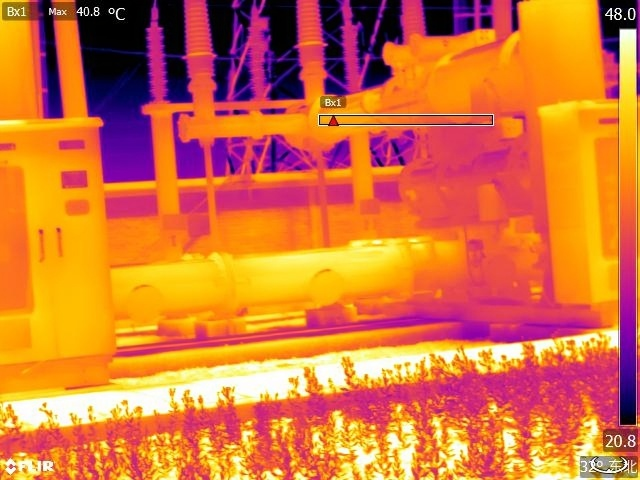lightning arrester: (140, 17, 172, 97), (338, 4, 363, 88), (248, 18, 268, 98)
tube: (288, 1, 326, 75), (180, 1, 215, 78), (401, 1, 426, 41)
